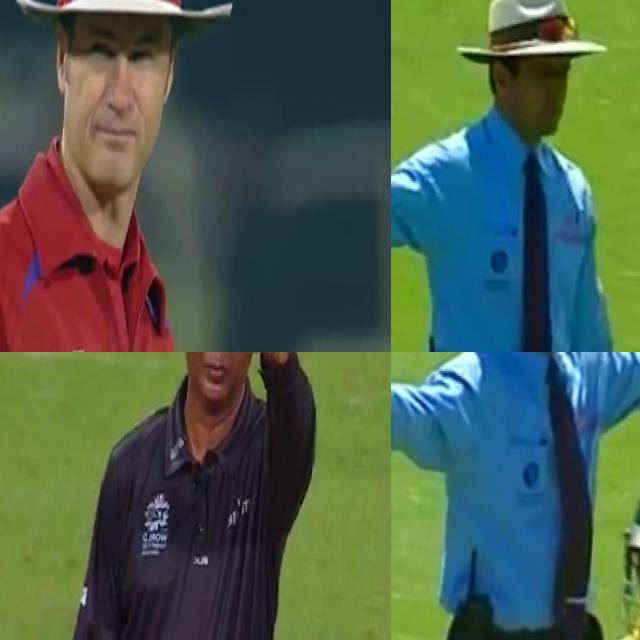No_Action: (0, 0, 253, 352)
No_Ball: (391, 0, 640, 352)
Out: (60, 352, 339, 640)
Wide: (391, 352, 640, 547)
